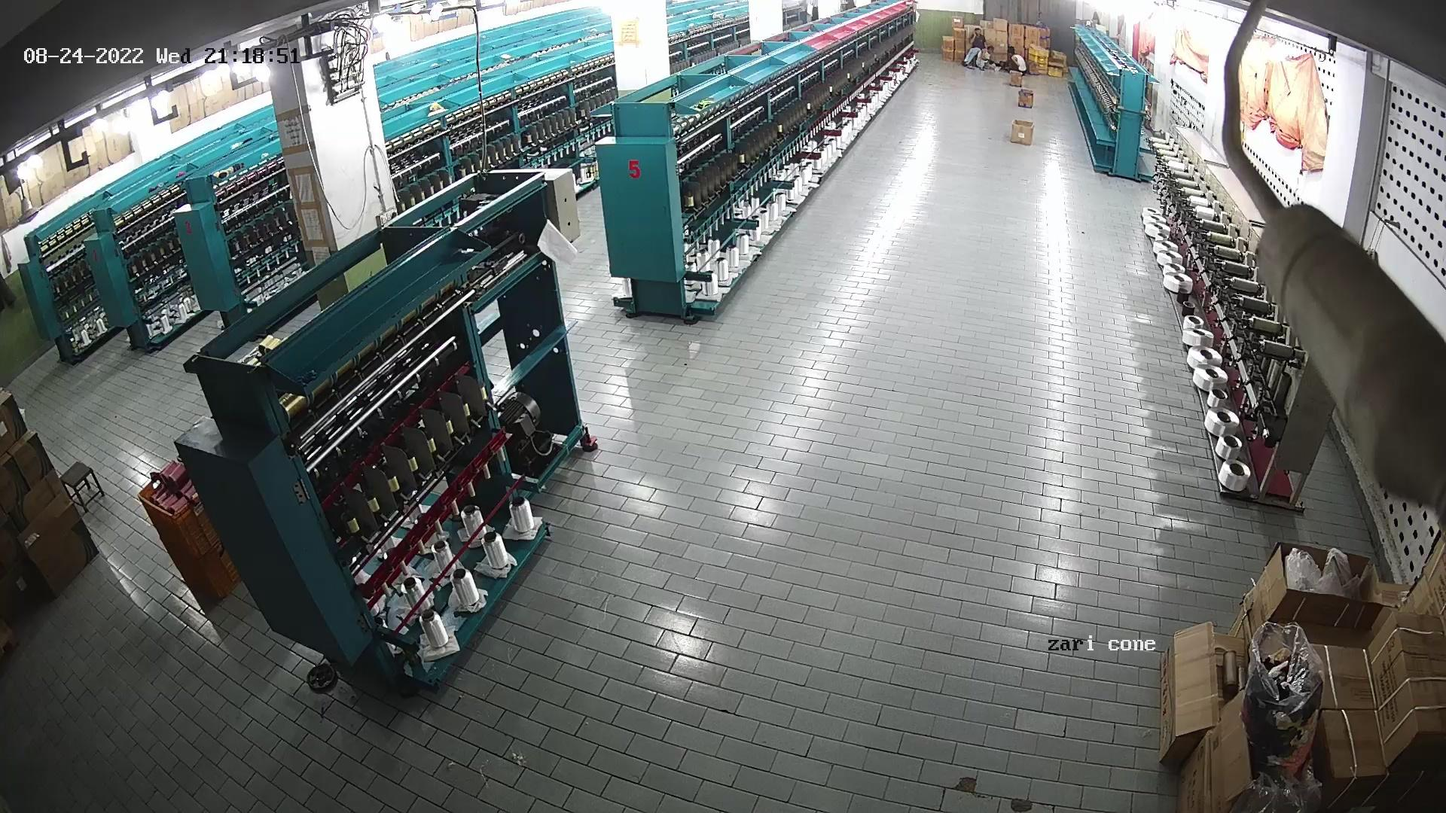person: (999, 45, 1033, 77), (969, 37, 992, 80)
